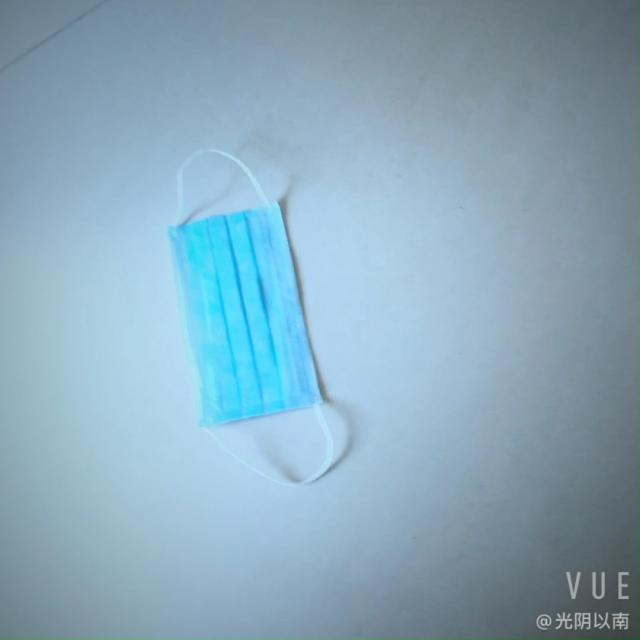non-organic waste: (159, 182, 338, 432)
